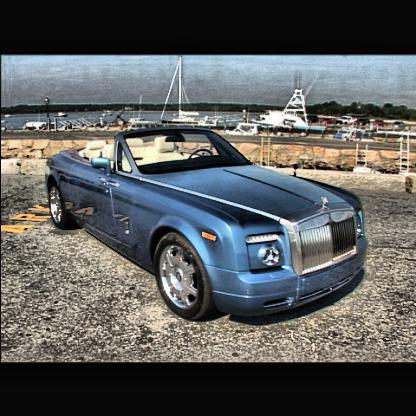Rolls-Royce Phantom Drophead Coupe Convertible 2012: (48, 128, 370, 322)
